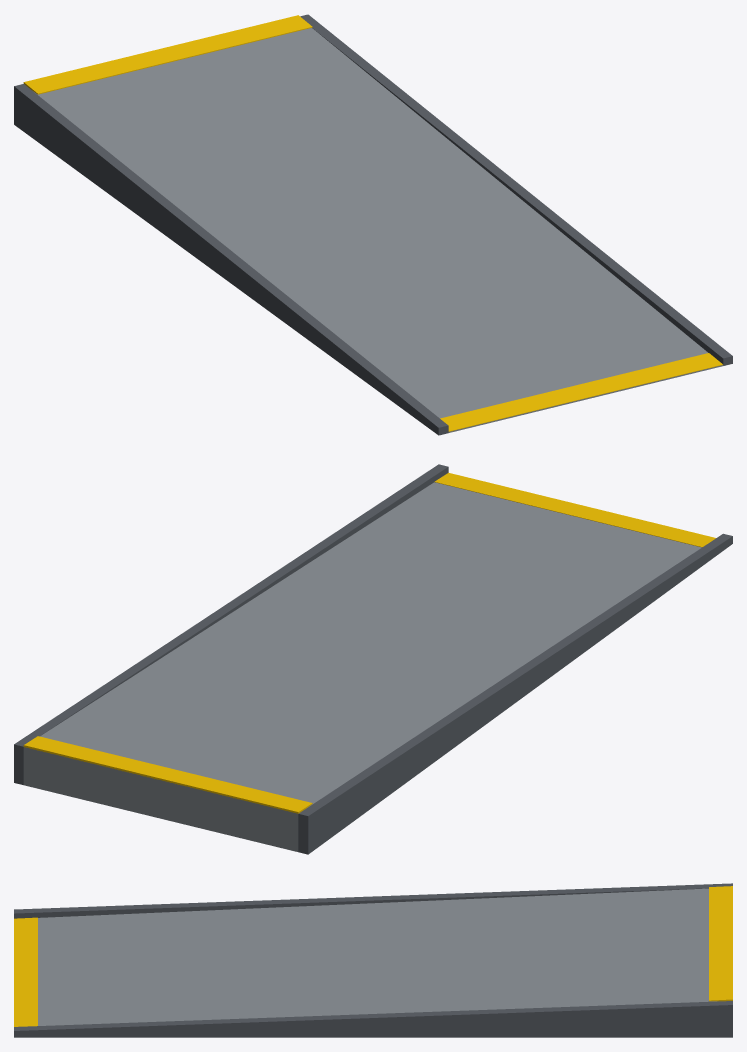
The model's file is ramp.glb.
The picture shows the model from 3 angles, top to bottom: view 1: azimuth 30°, elevation 25°; view 2: azimuth 150°, elevation 25°; view 3: azimuth 270°, elevation 25°; orthographic projection. The views are drawn at different scales.
Visible parts, largest first — view 1: body; view 2: body; view 3: body.
Part boxes in pixels (x1,y1,x2,y2): body: (14,14,732,435); body: (14,464,732,854); body: (14,883,732,1037).
Bounding box in the file's own units: 1.2 × 0.1565 × 3.
